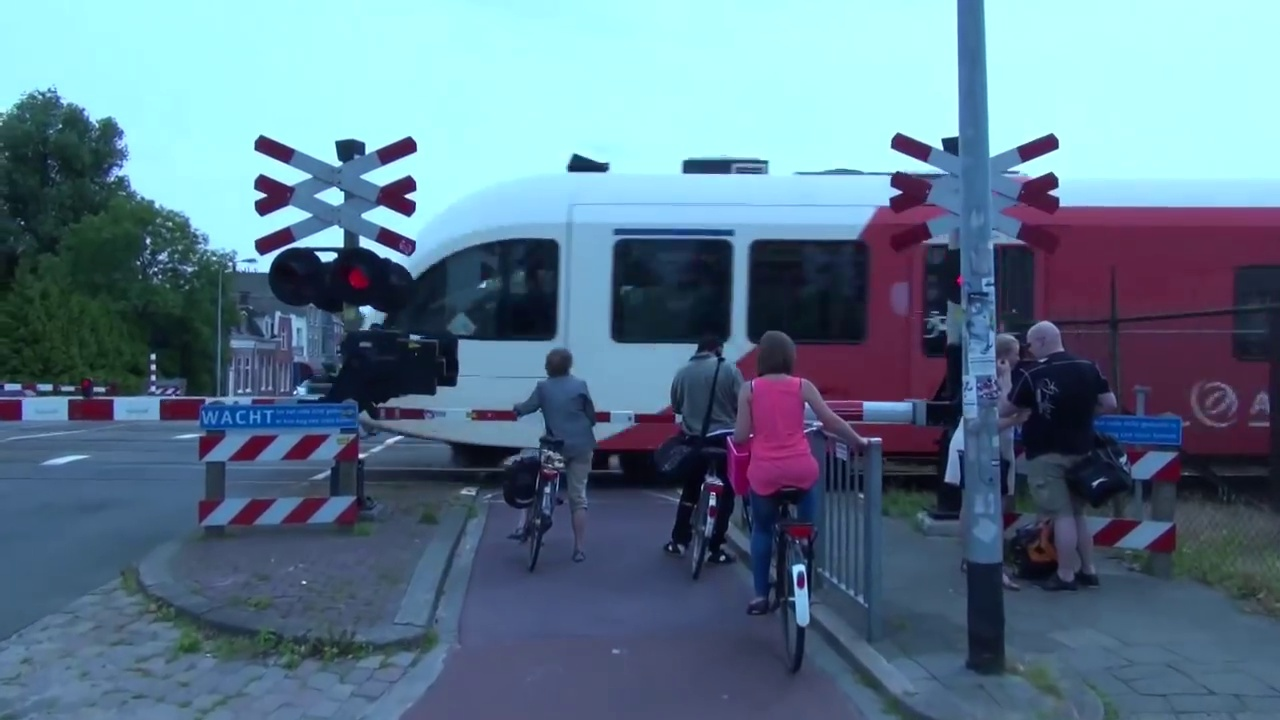cyclist_back: (731, 330, 832, 675), (659, 325, 746, 586), (505, 342, 584, 592)
